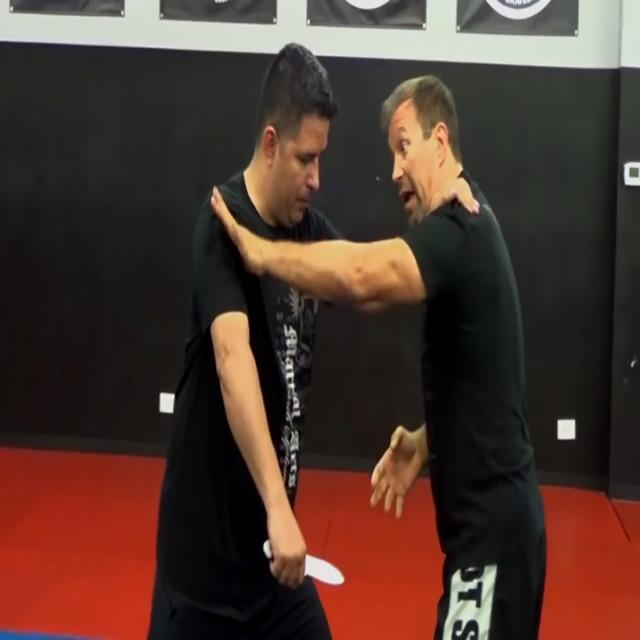Knife: (259, 533, 349, 592)
